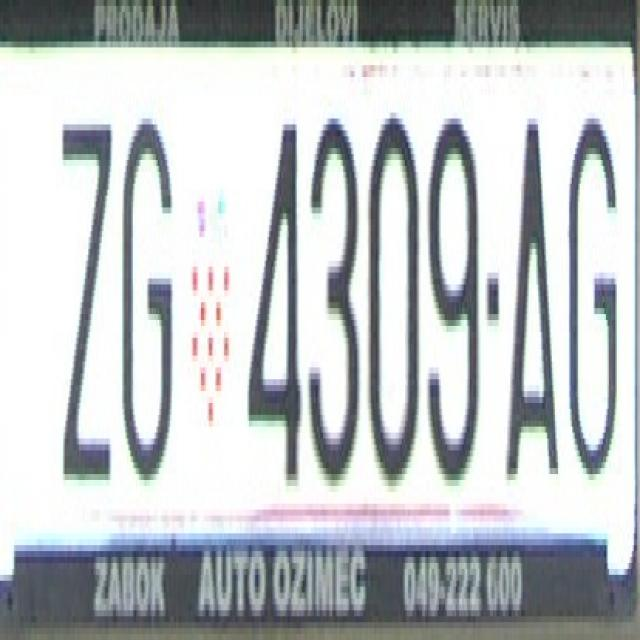0: (367, 107, 418, 492)
3: (306, 113, 357, 480)
4: (248, 107, 302, 492)
9: (425, 113, 475, 480)
A: (504, 136, 552, 480)
G: (562, 113, 618, 486), (118, 113, 174, 480)
Z: (54, 113, 116, 486)
